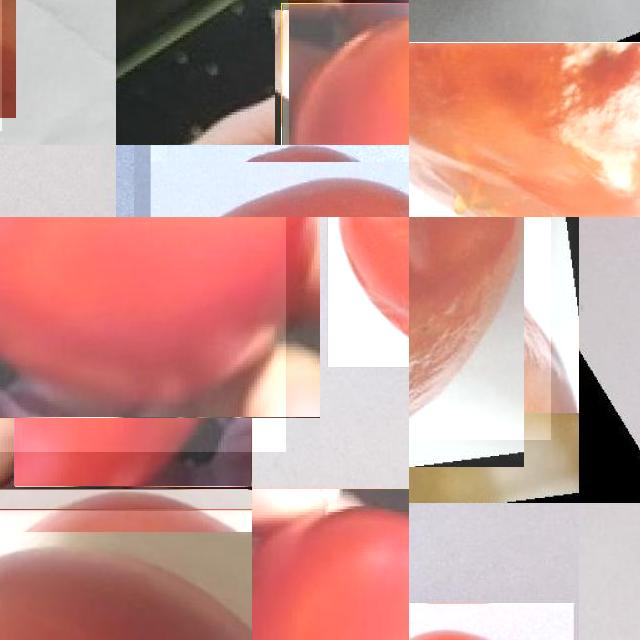0: (150, 145, 409, 217), (281, 3, 409, 145)
1: (409, 42, 640, 217), (409, 217, 551, 440)
Fresh Tomato: (0, 217, 286, 452), (0, 509, 252, 640), (252, 489, 409, 640)
Rotten Tomato: (328, 217, 409, 367)
